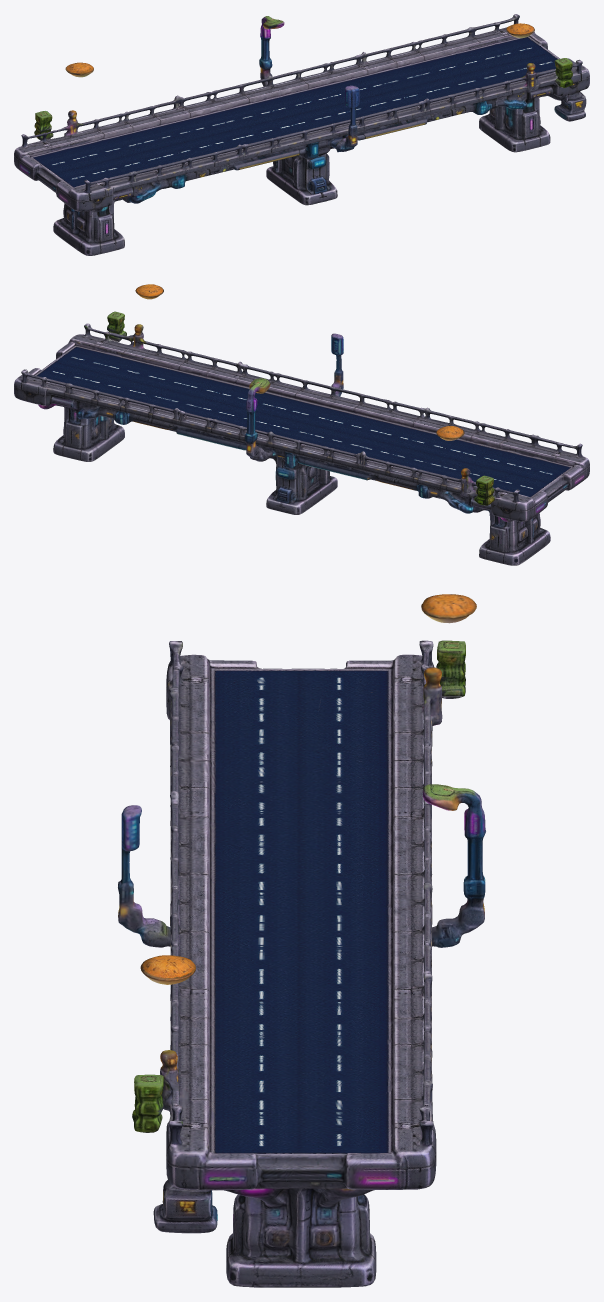
The model's file is Viaduto_Cyberpunk.glb.
3 renders of one model, top to bottom at view 1: azimuth 30°, elevation 25°; view 2: azimuth 150°, elevation 25°; view 3: azimuth 270°, elevation 25°, orthographic. The views are drawn at different scales.
Size of the model in its own units: 1.89 by 0.4897 by 0.5824.
1 material, 1 textured.
